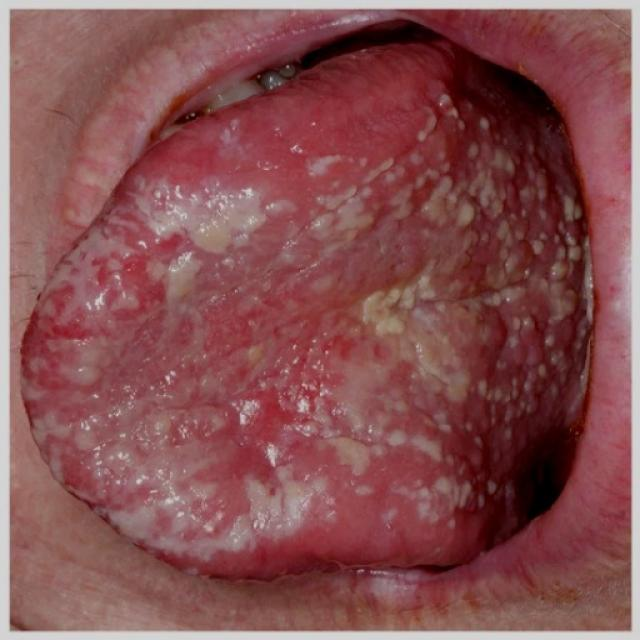leukoplakia-like-detection: (30, 89, 591, 571)
processing_area: (22, 42, 592, 564)
